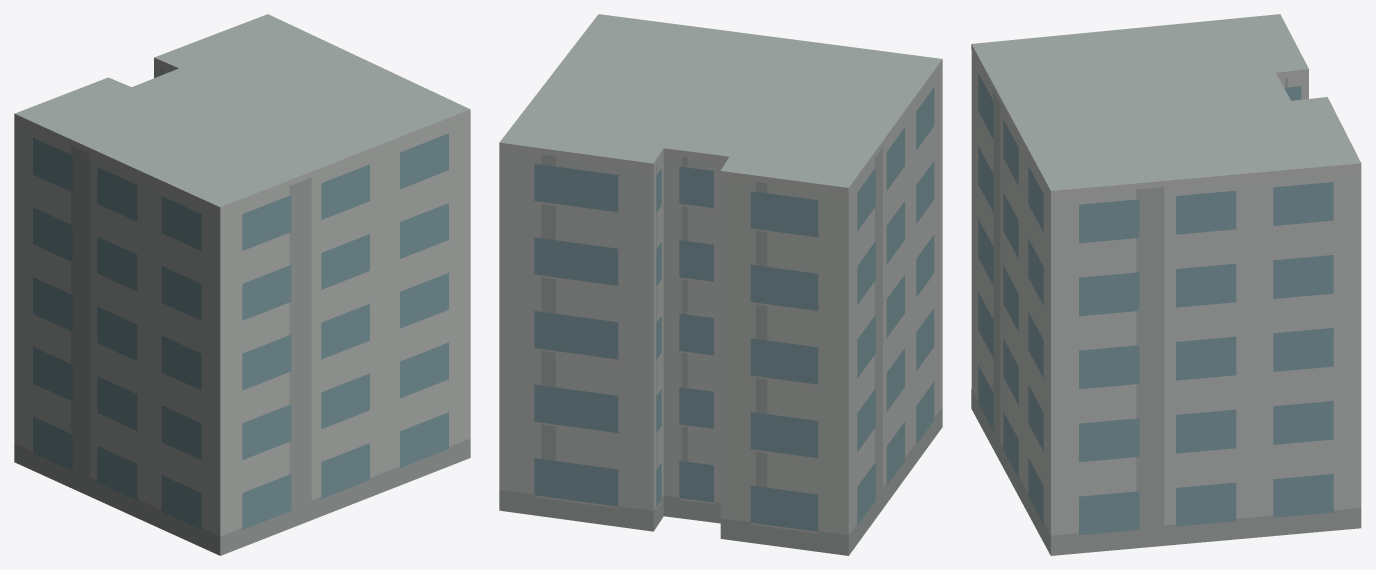
The model's file is survey-upis-32562315.glb.
The picture shows the model from 3 angles, left to right: view 1: azimuth 30°, elevation 25°; view 2: azimuth 150°, elevation 25°; view 3: azimuth 270°, elevation 25°; orthographic projection. The views are drawn at different scales.
Parts seen in each view (by area): view 1: survey-upis-32562315.tmp; view 2: survey-upis-32562315.tmp; view 3: survey-upis-32562315.tmp.
Boxes of the visible parts, box(x1,y1,x2,y2) form: survey-upis-32562315.tmp: box(14, 14, 470, 555); survey-upis-32562315.tmp: box(499, 14, 942, 555); survey-upis-32562315.tmp: box(971, 14, 1361, 555).
Bounding box in the file's own units: 15.1 × 14.5 × 14.05.
